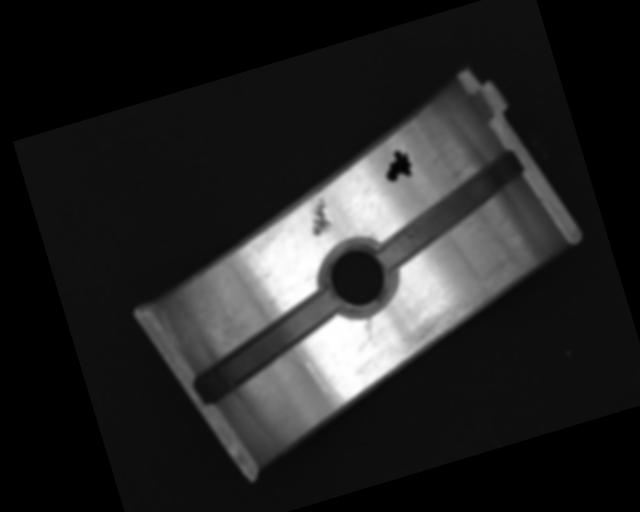blot: (379, 147, 415, 184)
bruise: (303, 197, 335, 238)
gap: (363, 149, 538, 271), (183, 291, 351, 403)
hole: (314, 232, 403, 323)
nick: (304, 354, 347, 413), (361, 314, 379, 342)
scratch: (390, 265, 540, 357)
